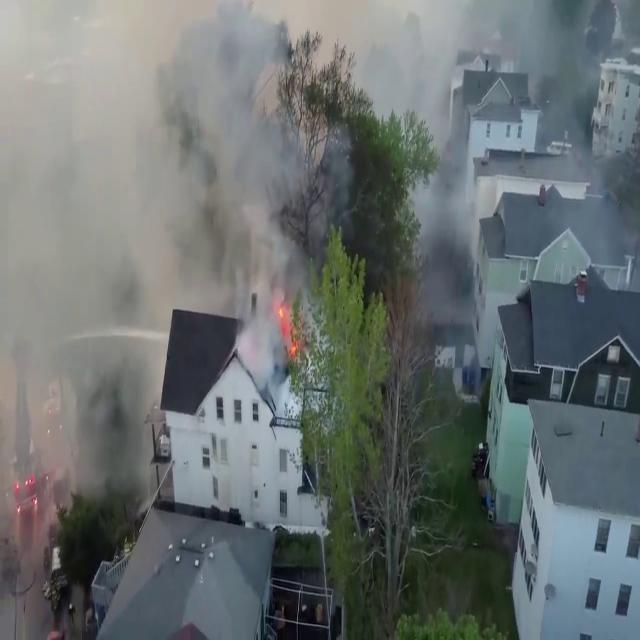Fire: (270, 287, 304, 367)
Smoke: (0, 1, 334, 490), (388, 0, 483, 334)
